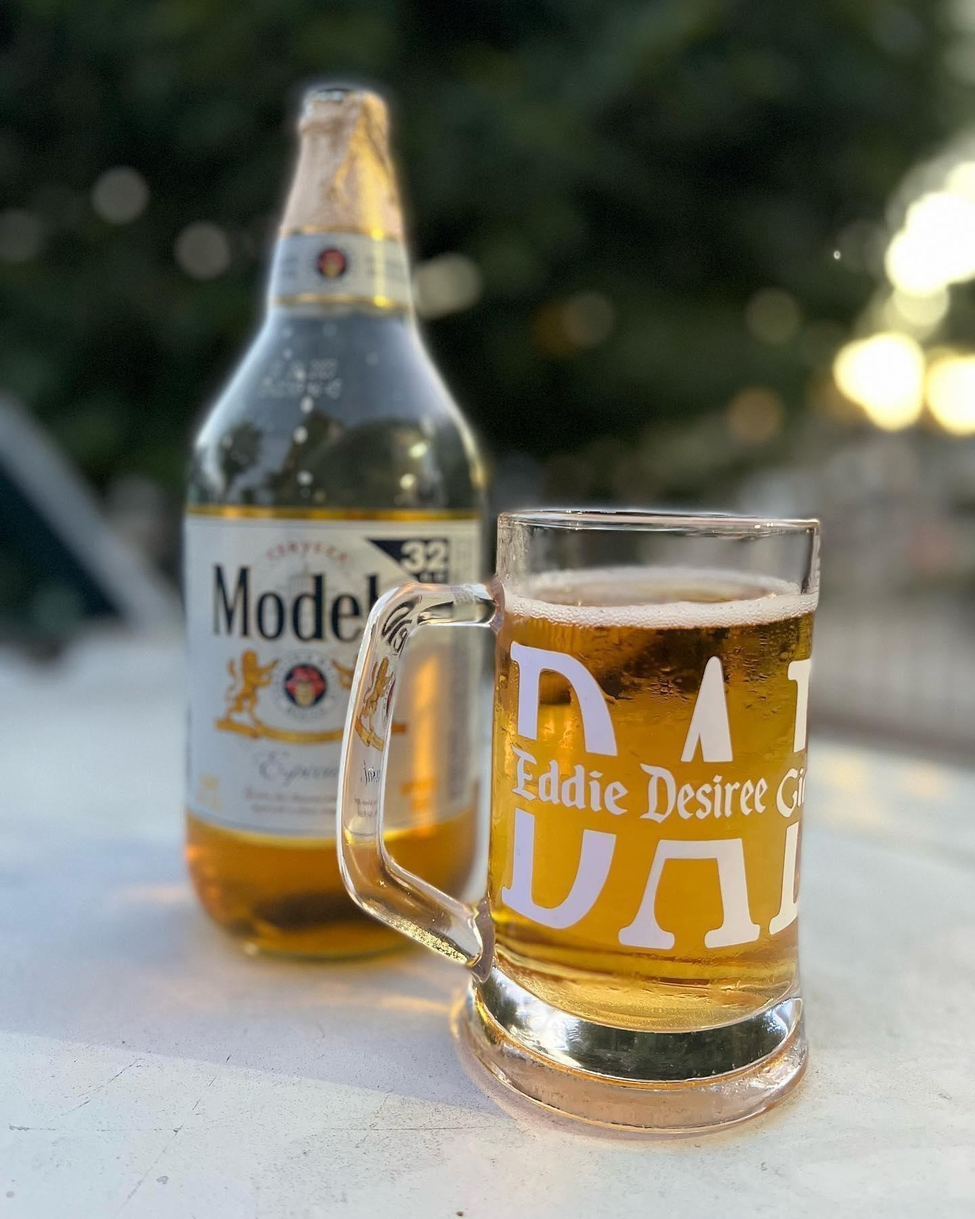bottle-glass: (160, 77, 504, 960)
glass-mug: (326, 487, 833, 1105)
